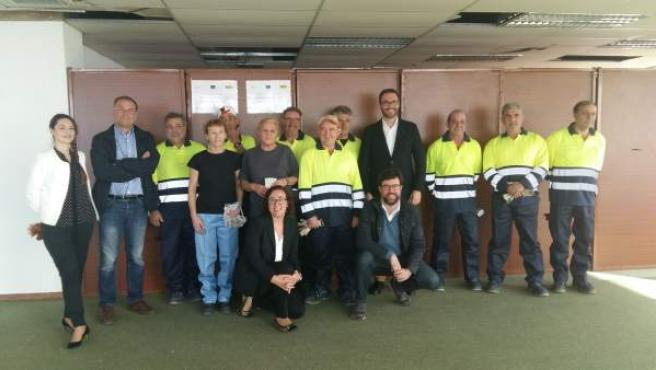person: (489, 104, 550, 166), (553, 95, 605, 166), (366, 176, 419, 232), (368, 87, 412, 152), (244, 115, 294, 170), (433, 110, 481, 167), (45, 116, 88, 174), (253, 189, 295, 247), (99, 97, 143, 152), (157, 115, 202, 166), (313, 121, 351, 176), (197, 125, 240, 163)
